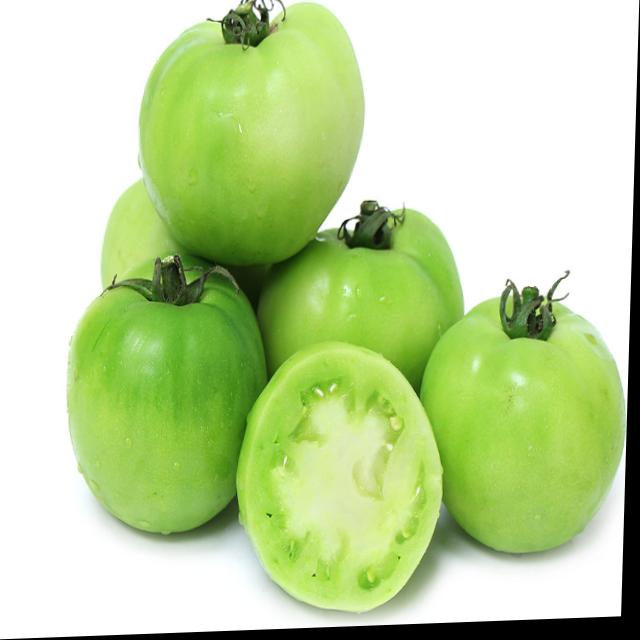yesil: (118, 6, 370, 270), (67, 268, 275, 544), (429, 281, 627, 561)
